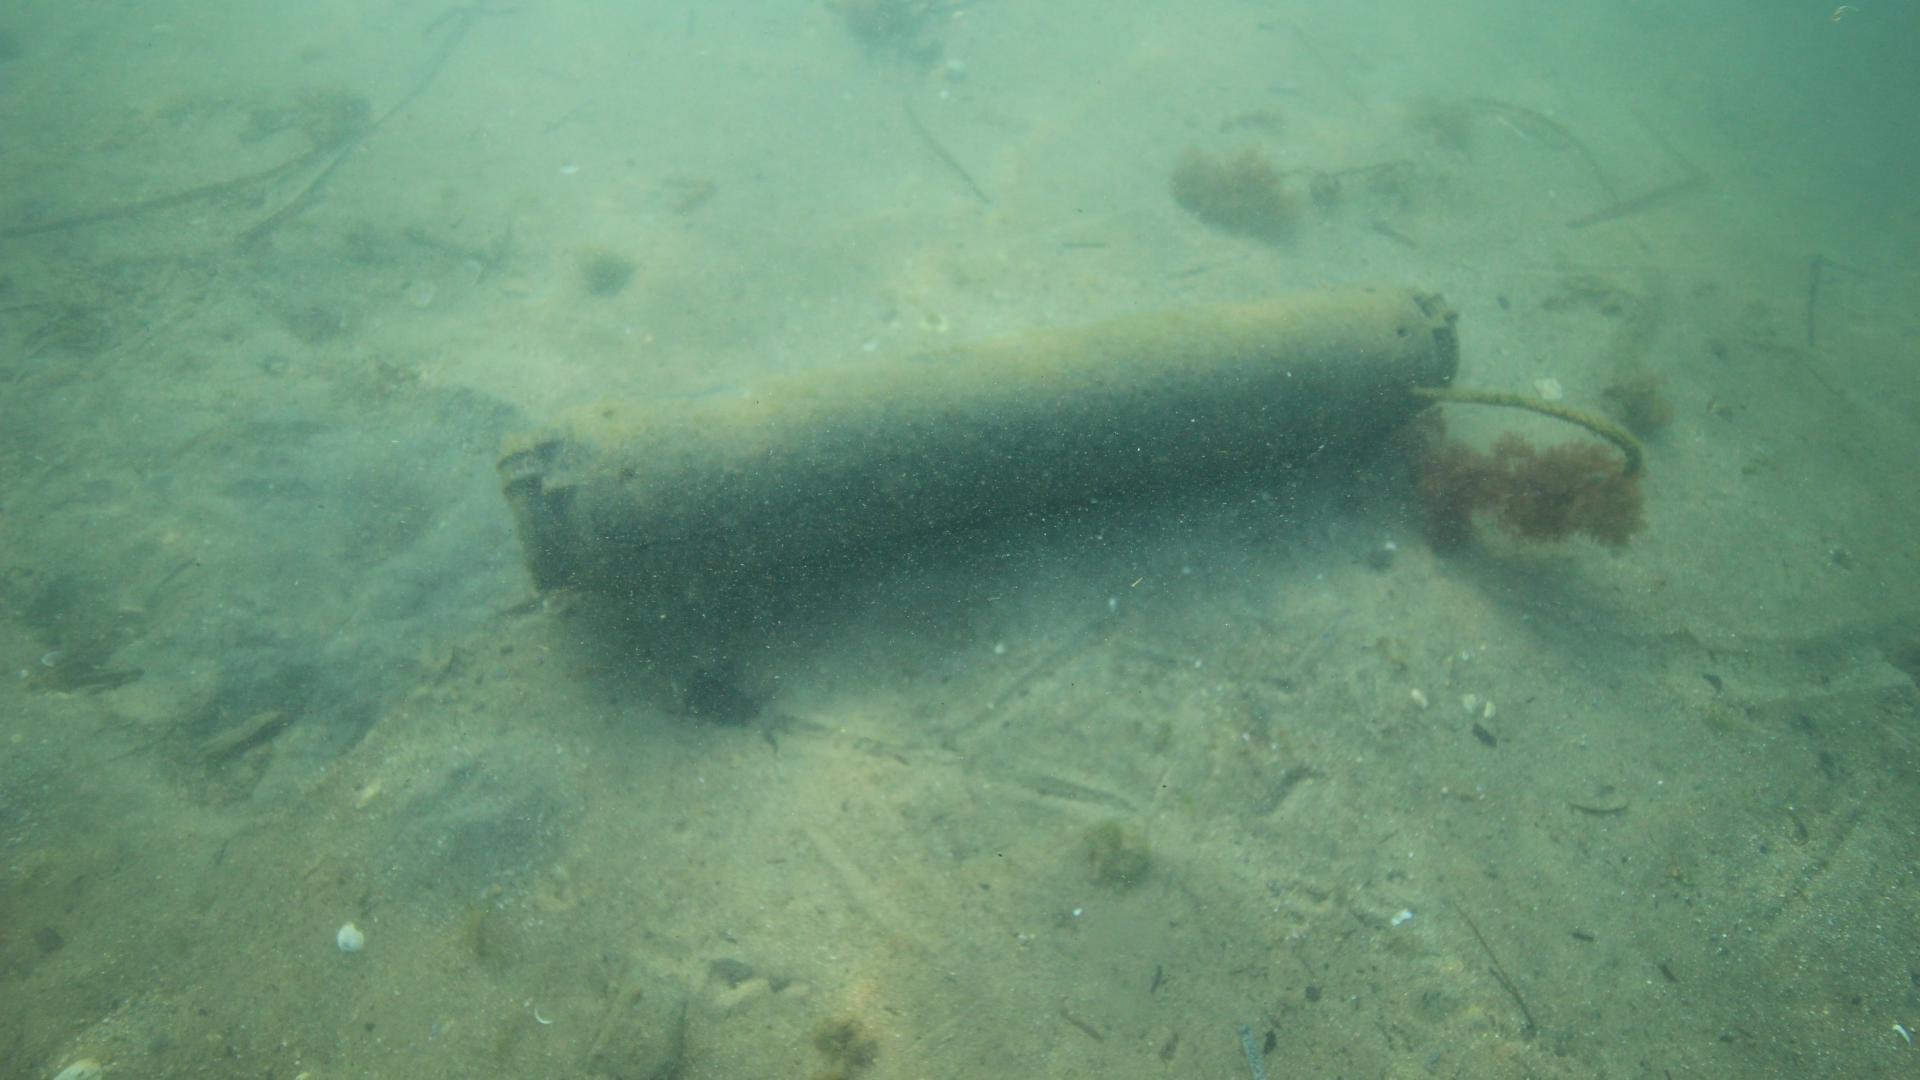eel fish trap: (497, 278, 1470, 600)
rope: (1407, 381, 1650, 497)
